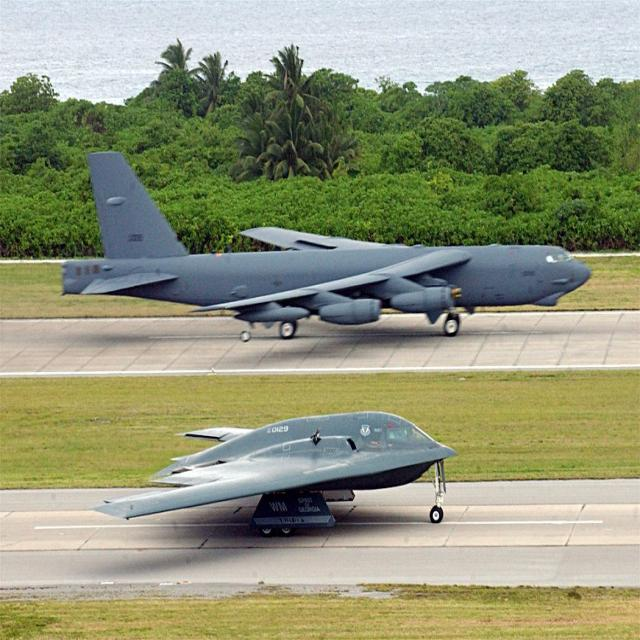MIL_Plane: (60, 149, 592, 342), (87, 397, 457, 524)
